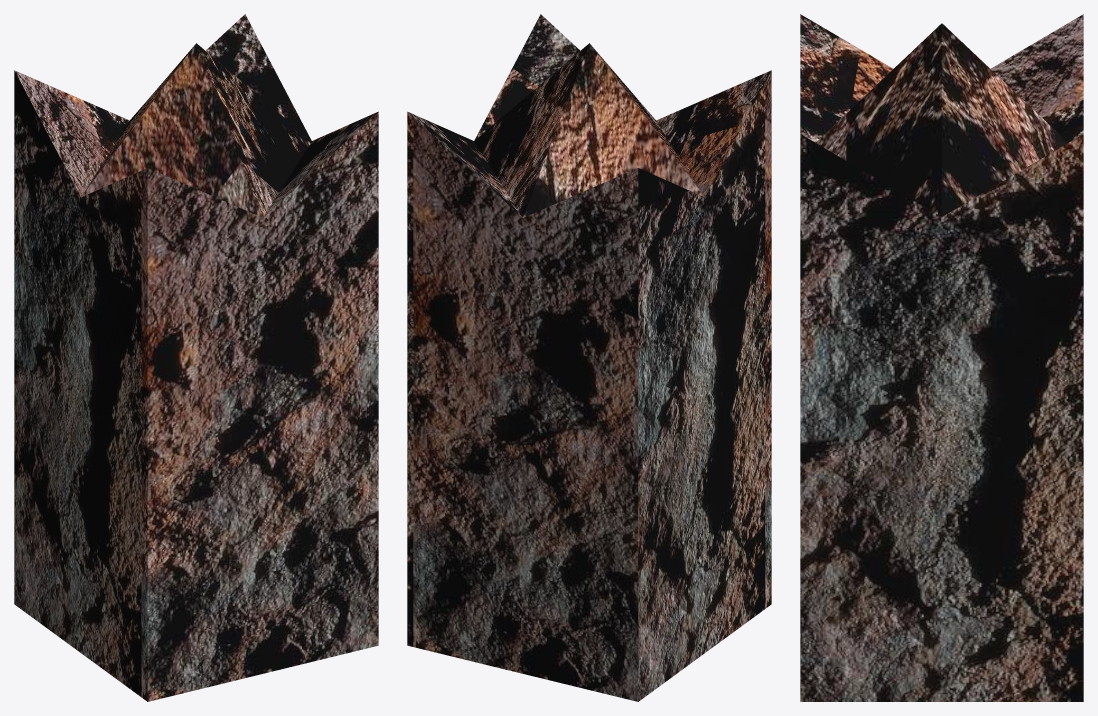
3 views of the same model, side by side, from view 1: azimuth 30°, elevation 25°; view 2: azimuth 150°, elevation 25°; view 3: azimuth 270°, elevation 25° (orthographic). The views are drawn at different scales.
Parts seen in each view (by area): view 1: DUNDGON; view 2: DUNDGON; view 3: DUNDGON.
Boxes of the visible parts, <box> form: DUNDGON: <box>14,14,378,701</box>; DUNDGON: <box>407,14,771,701</box>; DUNDGON: <box>800,14,1083,701</box>.
Bounding box in the file's own units: 12 × 28.91 × 12.
1 material, 1 textured.
